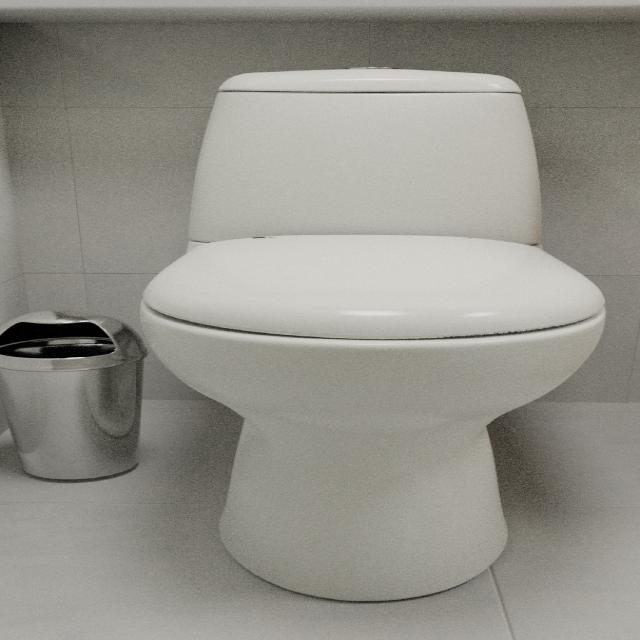toilet: (138, 66, 606, 602)
